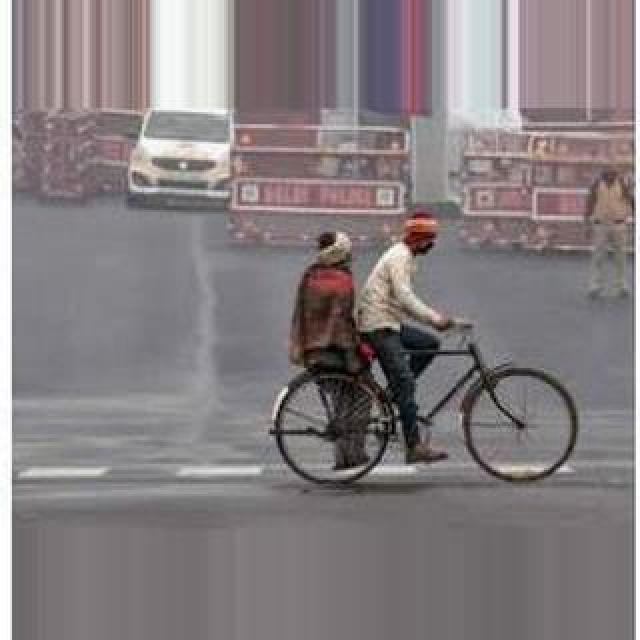Bus-Bike: (126, 106, 234, 210)
MC-Bike: (356, 206, 454, 462), (286, 230, 362, 458), (582, 168, 634, 304)
Person: (274, 316, 582, 488)
